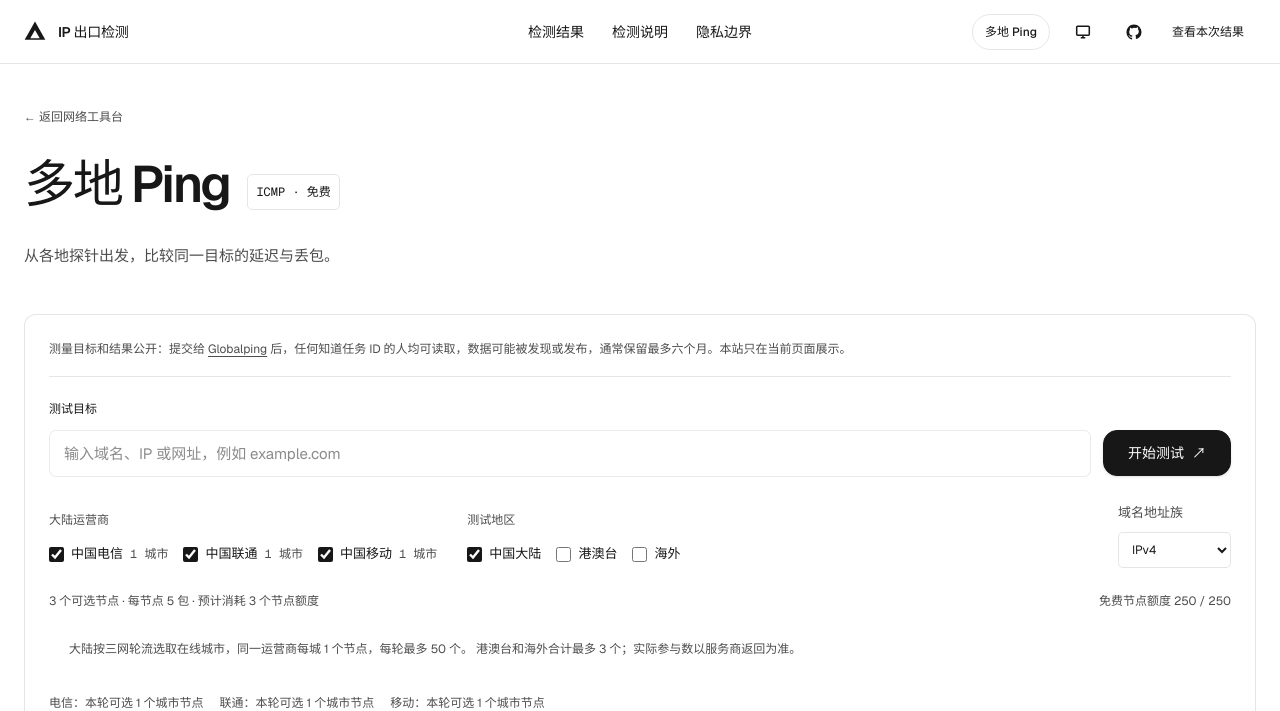
it: 多地 Ping 独立页面 › 轮询中断后保留成功节点，等待中的节点变为无法判断
Check: the text "3 个可选节点 · 每节点 5 包 · 预计消耗 3 个节点额度" is shown, box [49,590,319,614]
Step 1. Type "example.com" into the field labelled "测试目标" → coordinates (570, 454), box [49,430,1091,478]
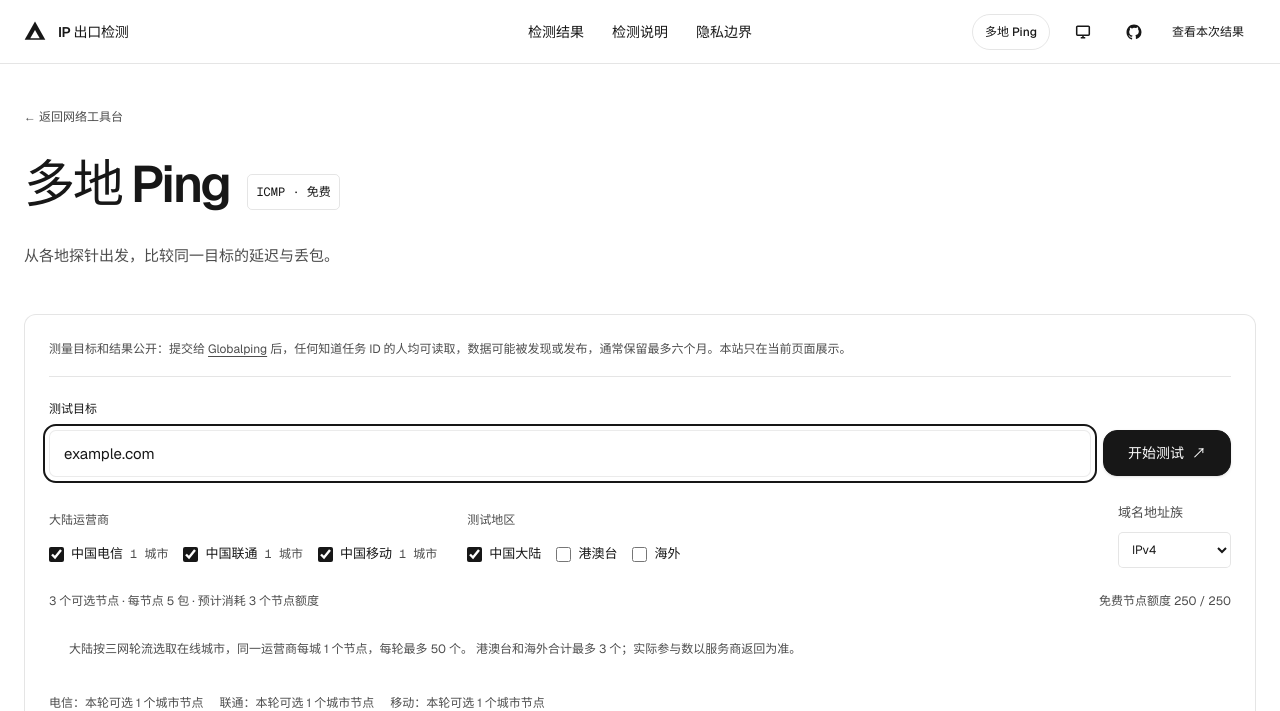
Step 2. Click the button "开始测试 ↗" → coordinates (1167, 454), box [1103,430,1231,476]
(page scrolled)
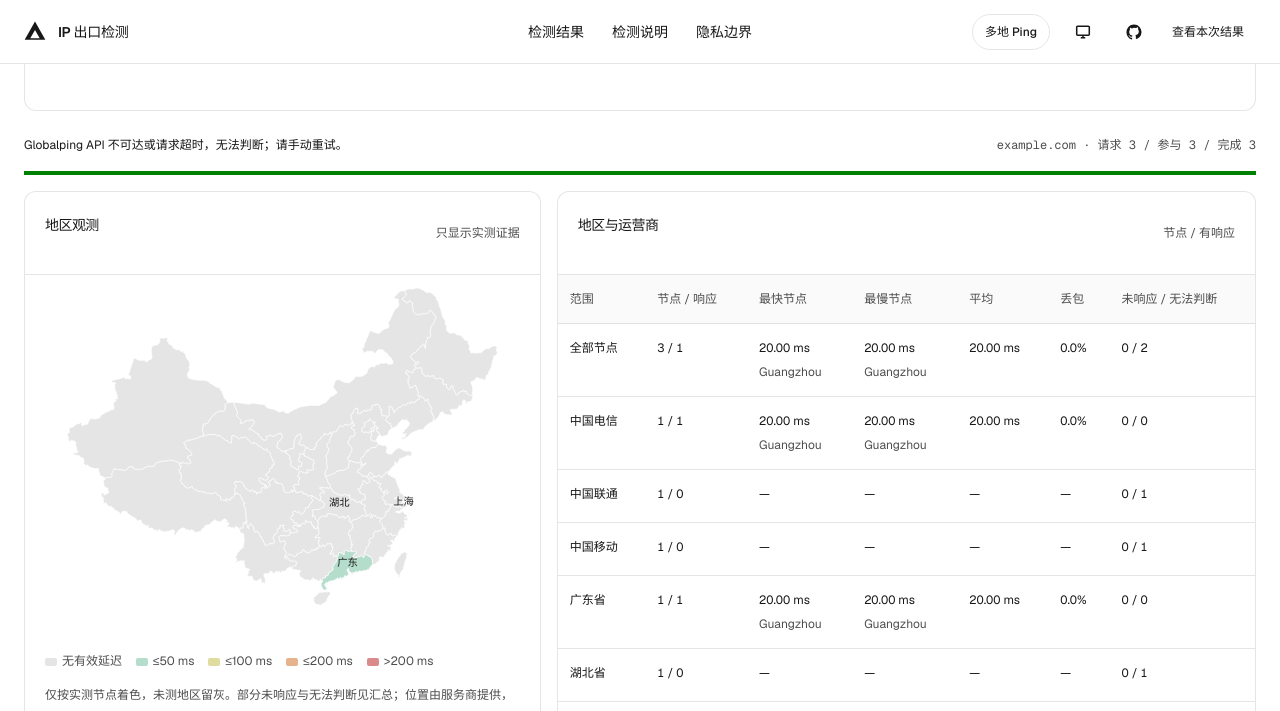
Check: the text "Globalping API 不可达或请求超时，无法判断；请手动重试。" is shown, box [24,135,348,156]
Check: the text "0 / 2" is shown, box [1110,324,1255,397]
